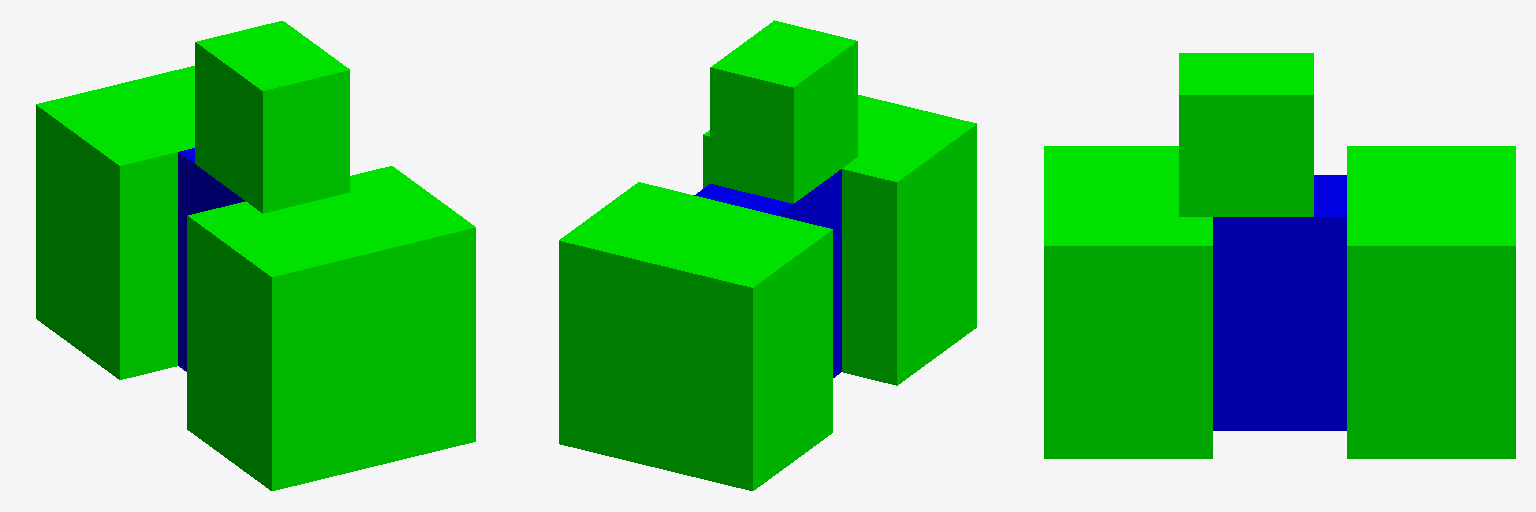
robot.urdf — robot:
<robot name = "robot">
    <link name="root">
        <inertial>
            <origin xyz="0.0 0.0 1.5" rpy="0 0 0"/>
            <mass value="1" />
            <inertia ixx="100" ixy="0" ixz="0" iyy="100" iyz="0" izz="100" />
        </inertial>
        <visual>
            <origin xyz="0.0 0.0 1.5" rpy="0 0 0"/>
            <geometry>
                <box size="0 0 0.0001" />
            </geometry>
            <material name="Green">
                <color rgba="0 1.0 0.0 1.0"/>
            </material>
        </visual>
        <collision>
            <origin xyz="0.0 0.0 1.5" rpy="0 0 0"/>
            <geometry>
                <box size="0 0 0.0001" />
            </geometry>
        </collision>
    </link>
    <joint name="root_000" type="revolute">
       <parent link="root"/>
       <child  link="000"/>
       <origin rpy="0 0 0" xyz="0.0 0.0 1.5" />
     <axis xyz="1 0 0"/>
       <limit effort="0.0" lower="-3.14159" upper="3.14159" velocity="0.0"/>
    </joint>
    <link name="000">
        <inertial>
            <origin xyz="0.0 0.1 0.0" rpy="0 0 0"/>
            <mass value="1" />
            <inertia ixx="100" ixy="0" ixz="0" iyy="100" iyz="0" izz="100" />
        </inertial>
        <visual>
            <origin xyz="0.0 0.1 0.0" rpy="0 0 0"/>
            <geometry>
                <box size="0.3 0.2 0.4" />
            </geometry>
            <material name="Green">
                <color rgba="0 1.0 0.0 1.0"/>
            </material>
        </visual>
        <collision>
            <origin xyz="0.0 0.1 0.0" rpy="0 0 0"/>
            <geometry>
                <box size="0.3 0.2 0.4" />
            </geometry>
        </collision>
    </link>
    <joint name="000_010" type="revolute">
       <parent link="000"/>
       <child  link="010"/>
       <origin rpy="0 0 0" xyz="0.0 0.2 -0.0" />
     <axis xyz="0 1 0"/>
       <limit effort="0.0" lower="-3.14159" upper="3.14159" velocity="0.0"/>
    </joint>
    <link name="010">
        <inertial>
            <origin xyz="0.0 0.1 -0.0" rpy="0 0 0"/>
            <mass value="1" />
            <inertia ixx="100" ixy="0" ixz="0" iyy="100" iyz="0" izz="100" />
        </inertial>
        <visual>
            <origin xyz="0.0 0.1 -0.0" rpy="0 0 0"/>
            <geometry>
                <box size="0.3 0.2 0.4" />
            </geometry>
            <material name="Green">
                <color rgba="0 1.0 0.0 1.0"/>
            </material>
        </visual>
        <collision>
            <origin xyz="0.0 0.1 -0.0" rpy="0 0 0"/>
            <geometry>
                <box size="0.3 0.2 0.4" />
            </geometry>
        </collision>
    </link>
    <joint name="010_010-100" type="revolute">
       <parent link="010"/>
       <child  link="010-100"/>
       <origin rpy="0 0 0" xyz="0.0 0.1 -0.2" />
     <axis xyz="0 0 1"/>
       <limit effort="0.0" lower="-3.14159" upper="3.14159" velocity="0.0"/>
    </joint>
    <link name="010-100">
        <inertial>
            <origin xyz="0.0 0.0 -0.35" rpy="0 0 0"/>
            <mass value="1" />
            <inertia ixx="100" ixy="0" ixz="0" iyy="100" iyz="0" izz="100" />
        </inertial>
        <visual>
            <origin xyz="0.0 0.0 -0.35" rpy="0 0 0"/>
            <geometry>
                <box size="0.3 0.4 0.7" />
            </geometry>
            <material name="Blue">
                <color rgba="0 0.0 1.0 1.0"/>
            </material>
        </visual>
        <collision>
            <origin xyz="0.0 0.0 -0.35" rpy="0 0 0"/>
            <geometry>
                <box size="0.3 0.4 0.7" />
            </geometry>
        </collision>
    </link>
    <joint name="010-100_010-100-200" type="revolute">
       <parent link="010-100"/>
       <child  link="010-100-200"/>
       <origin rpy="0 0 0" xyz="0.0 0.2 -0.35" />
     <axis xyz="0 1 0"/>
       <limit effort="0.0" lower="-3.14159" upper="3.14159" velocity="0.0"/>
    </joint>
    <link name="010-100-200">
        <inertial>
            <origin xyz="0.0 0.25 -0.0" rpy="0 0 0"/>
            <mass value="1" />
            <inertia ixx="100" ixy="0" ixz="0" iyy="100" iyz="0" izz="100" />
        </inertial>
        <visual>
            <origin xyz="0.0 0.25 -0.0" rpy="0 0 0"/>
            <geometry>
                <box size="0.7 0.5 0.7" />
            </geometry>
            <material name="Green">
                <color rgba="0 1.0 0.0 1.0"/>
            </material>
        </visual>
        <collision>
            <origin xyz="0.0 0.25 -0.0" rpy="0 0 0"/>
            <geometry>
                <box size="0.7 0.5 0.7" />
            </geometry>
        </collision>
    </link>
    <joint name="010-100_010-100-201" type="revolute">
       <parent link="010-100"/>
       <child  link="010-100-201"/>
       <origin rpy="0 0 0" xyz="0.0 -0.2 -0.35" />
     <axis xyz="0 1 0"/>
       <limit effort="0.0" lower="-3.14159" upper="3.14159" velocity="0.0"/>
    </joint>
    <link name="010-100-201">
        <inertial>
            <origin xyz="0.0 -0.25 -0.0" rpy="0 0 0"/>
            <mass value="1" />
            <inertia ixx="100" ixy="0" ixz="0" iyy="100" iyz="0" izz="100" />
        </inertial>
        <visual>
            <origin xyz="0.0 -0.25 -0.0" rpy="0 0 0"/>
            <geometry>
                <box size="0.7 0.5 0.7" />
            </geometry>
            <material name="Green">
                <color rgba="0 1.0 0.0 1.0"/>
            </material>
        </visual>
        <collision>
            <origin xyz="0.0 -0.25 -0.0" rpy="0 0 0"/>
            <geometry>
                <box size="0.7 0.5 0.7" />
            </geometry>
        </collision>
    </link>
</robot>

--- Facts derived from the render (not from the file) ---
Views: 3 orthographic renders of the robot side by side, from view 1: azimuth 30°, elevation 25°; view 2: azimuth 150°, elevation 25°; view 3: azimuth 270°, elevation 25°.
Robot: robot — 6 links, 5 joints (5 revolute); root link root; default pose: every joint at zero.
Visible links, largest first — view 1: [phone redacted] (×2), 000, 010, 010-100; view 2: [phone redacted] (×2), 010, 000, 010-100; view 3: [phone redacted] (×2), 010-100, 010, 000.
Link boxes in pixels (bbox=[...]): [phone redacted] (×2): bbox=[36, 66, 475, 490]; 000: bbox=[229, 45, 349, 213]; 010: bbox=[195, 21, 315, 188]; 010-100: bbox=[178, 148, 244, 371]; [phone redacted] (×2): bbox=[559, 95, 976, 490]; 010: bbox=[710, 44, 825, 203]; 000: bbox=[743, 20, 857, 179]; 010-100: bbox=[694, 169, 841, 377]; [phone redacted] (×2): bbox=[1044, 146, 1515, 458]; 010-100: bbox=[1213, 175, 1346, 430]; 010: bbox=[1246, 53, 1313, 216]; 000: bbox=[1179, 53, 1245, 216].
Bounding box of the posed robot: 0.7 × 1.4 × 1.1 m (x, y, z).
Geometry: primitives only (box / cylinder / sphere), no mesh files.
